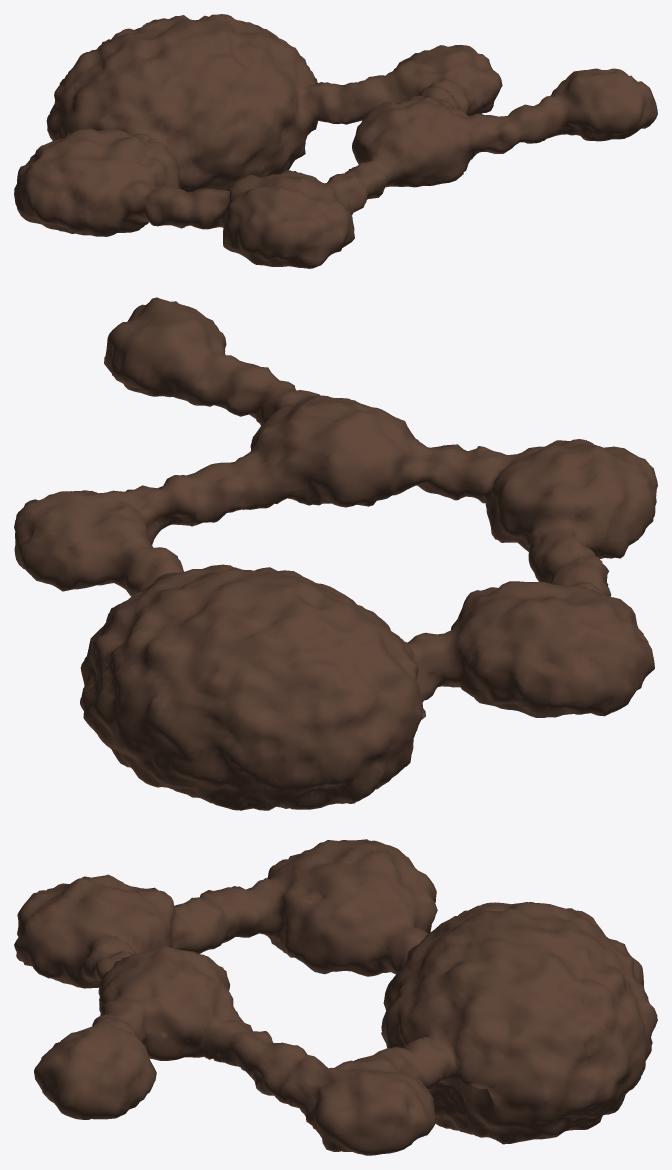
Rendered from cave_f8.glb.
3 renders of one model, top to bottom at view 1: azimuth 30°, elevation 25°; view 2: azimuth 150°, elevation 25°; view 3: azimuth 270°, elevation 25°, orthographic. The views are drawn at different scales.
Visible parts, largest first — view 1: cave_f8; view 2: cave_f8; view 3: cave_f8.
Part boxes in pixels (bbox=[...]): cave_f8: bbox=[14, 14, 657, 268]; cave_f8: bbox=[14, 297, 657, 810]; cave_f8: bbox=[14, 839, 657, 1155].
Bounding box in the file's own units: 84.95 × 26.2 × 76.14.
